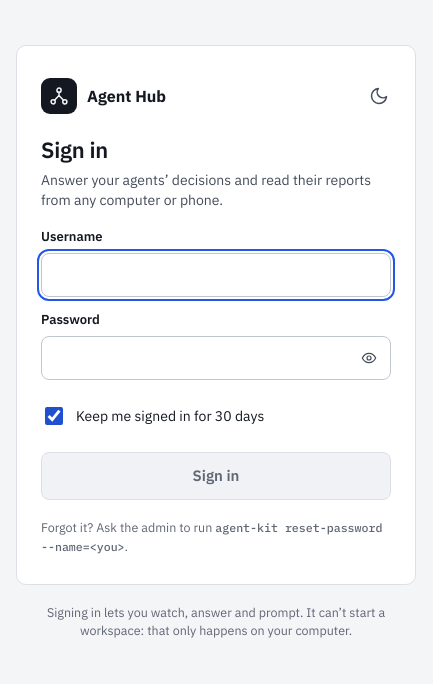
Test: Sign in › rejects a wrong password and clears it
In the field labelled "Username": (216, 275) [41,253,391,297], type "owner"
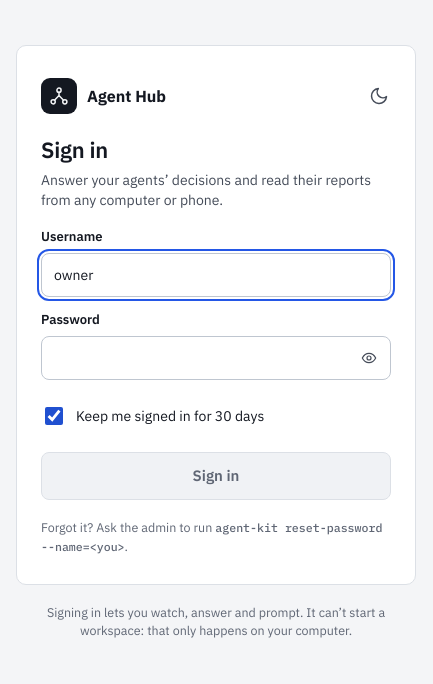
In the password field labelled "Password": (216, 358) [41,336,391,380], type "wrong"
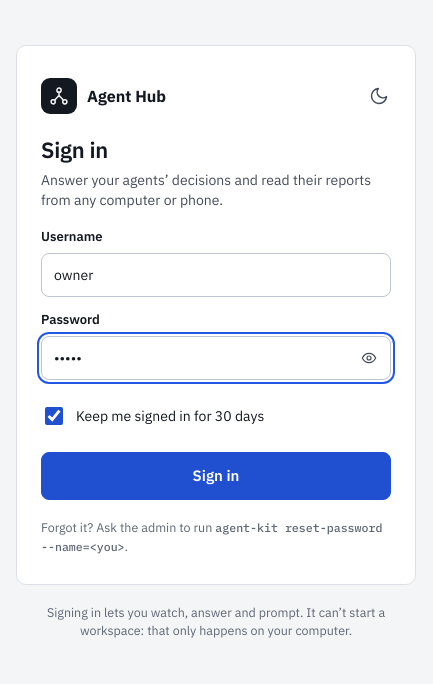
Click the button "Sign in": (216, 476) [41,452,391,500]
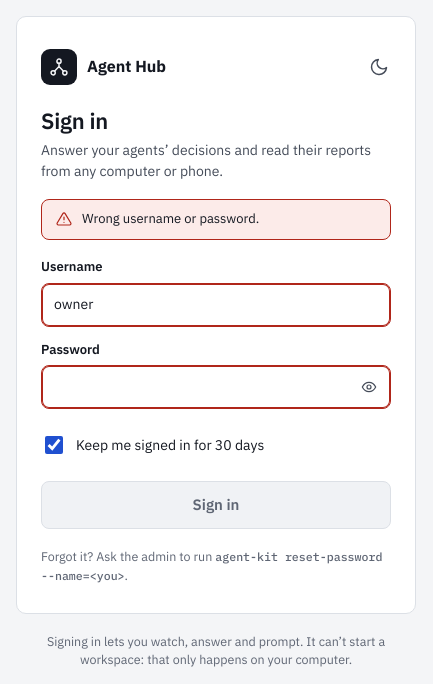
Expected: the text "Wrong username or password." is shown, [82,210,259,227]
Expected: the password field labelled "Password" is empty, [41,365,391,409]
